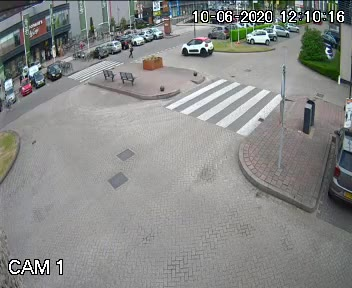car: (179, 32, 213, 61)
